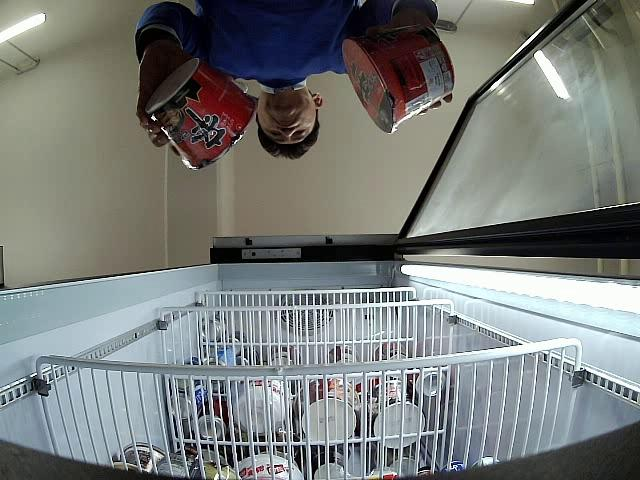00_hand: (136, 51, 234, 148), (363, 21, 453, 116)
01_shinRamen_L: (141, 60, 259, 171), (342, 27, 454, 135)
